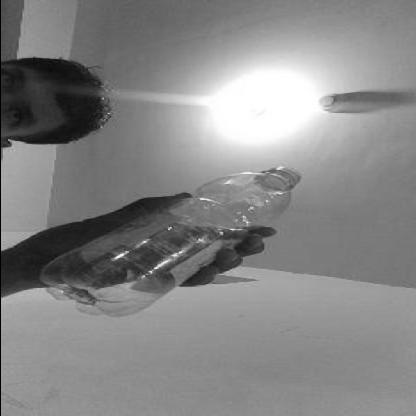plastic_bottles: (38, 164, 301, 316)
